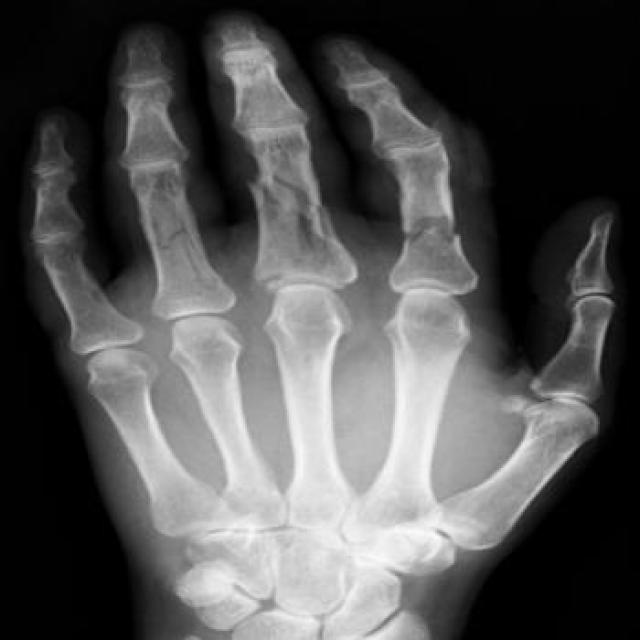Fracture: (240, 168, 348, 250), (137, 219, 225, 299), (377, 207, 478, 255)
